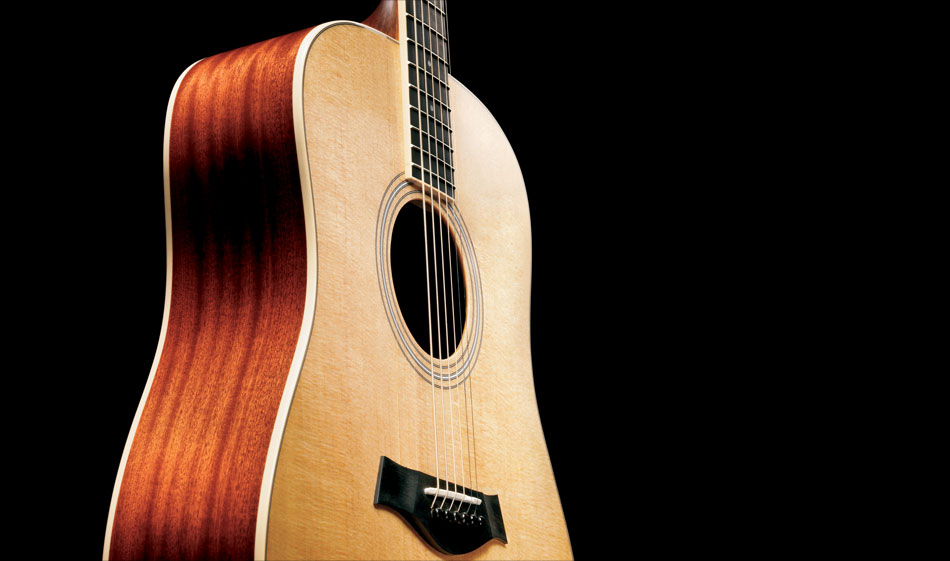guitar: (100, 2, 578, 557)
